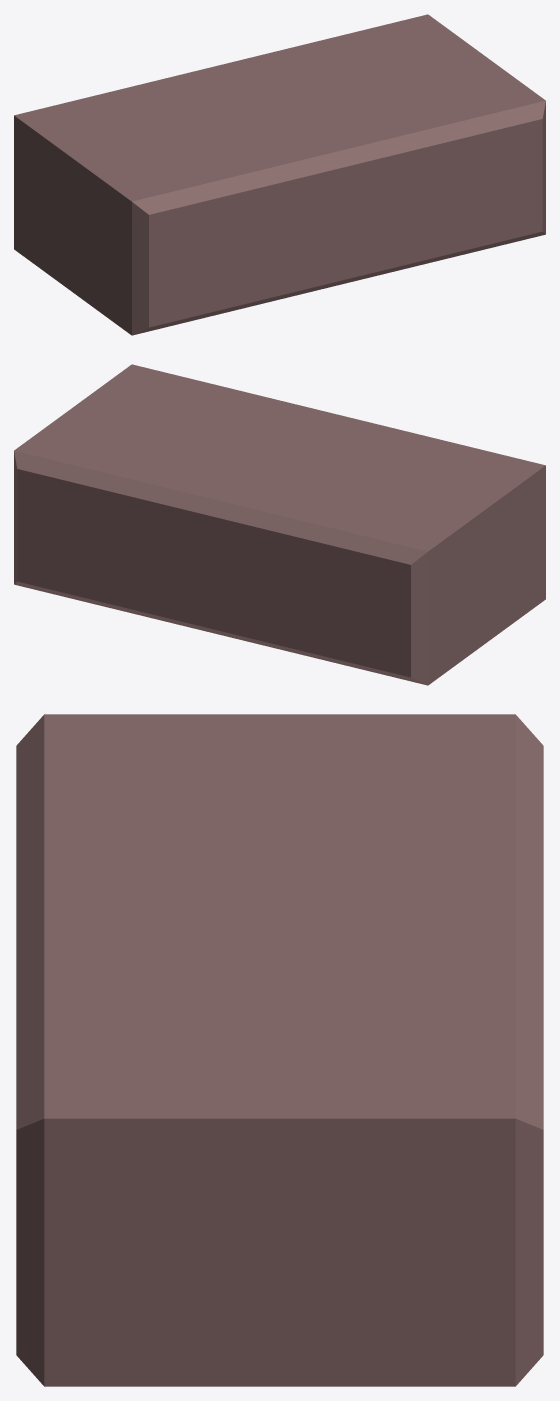
Rendered from single_brick.fbx.
3 renders of one model, top to bottom at view 1: azimuth 30°, elevation 25°; view 2: azimuth 150°, elevation 25°; view 3: azimuth 270°, elevation 25°, orthographic. The views are drawn at different scales.
Visible parts, largest first — view 1: Whole_Brick_191; view 2: Whole_Brick_191; view 3: Whole_Brick_191.
Part boxes in pixels (<box>): Whole_Brick_191: <box>14,14,545,335</box>; Whole_Brick_191: <box>14,364,545,685</box>; Whole_Brick_191: <box>16,714,543,1386</box>.
Size of the model in its own units: 2.03 by 0.6272 by 1.12.
